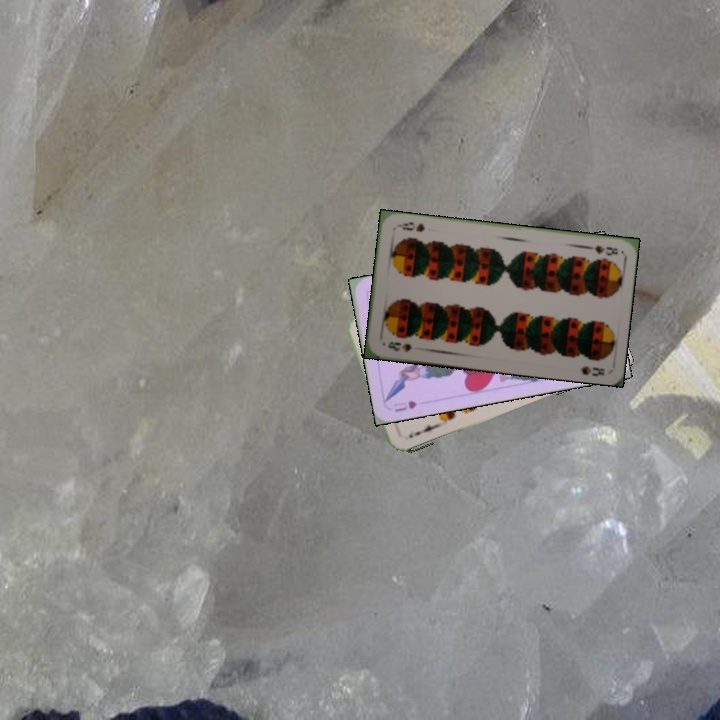E7: (405, 420, 440, 441)
HU: (390, 396, 420, 415)
S8: (581, 241, 620, 258), (384, 338, 414, 355)
